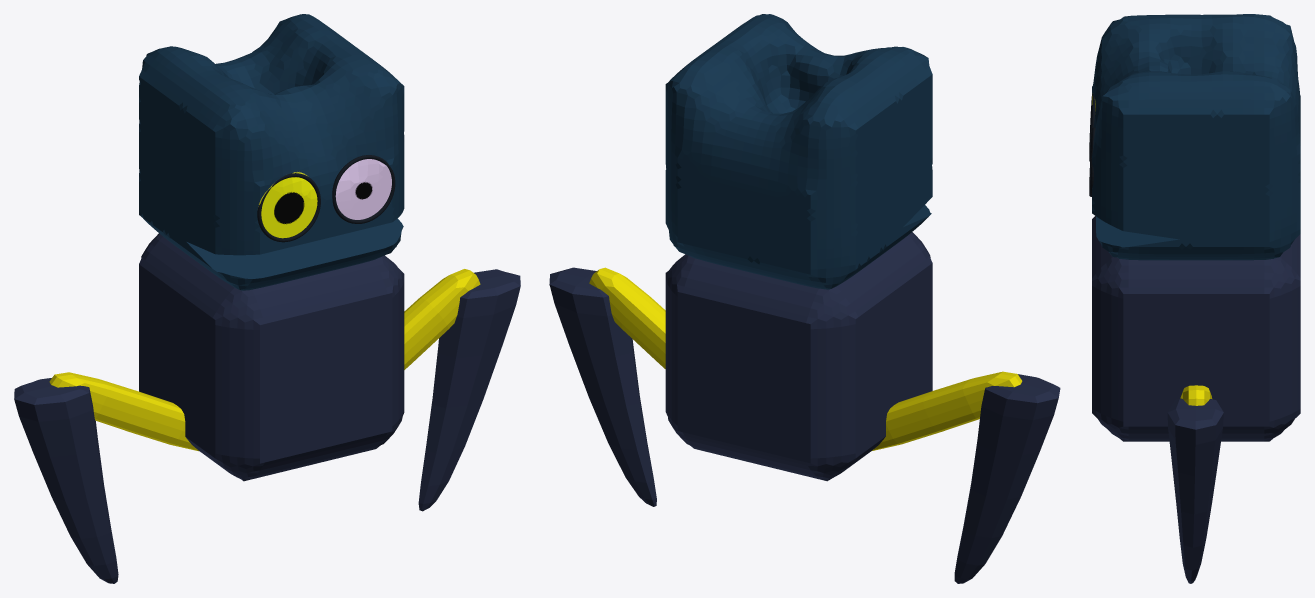
3 views of the same model, side by side, from view 1: azimuth 30°, elevation 25°; view 2: azimuth 150°, elevation 25°; view 3: azimuth 270°, elevation 25° (orthographic). The views are drawn at different scales.
Parts seen in each view (by area): view 1: Cube, Куб.004, Куб.003, Куб.002, Куб.001, Куб, Torus, Torus.001; view 2: Cube, Куб.004, Куб.002, Куб.003, Куб.001, Куб; view 3: Cube, Куб.004, Куб.002, Куб.
Boxes of the visible parts, x1,y1,x2,y2 form: Cube: (139, 14, 404, 290); Куб.004: (139, 233, 404, 481); Куб.003: (14, 378, 118, 583); Куб.002: (418, 269, 520, 511); Куб.001: (49, 372, 198, 451); Куб: (404, 269, 480, 369); Torus: (332, 155, 395, 223); Torus.001: (257, 173, 320, 242); Cube: (665, 14, 932, 289); Куб.004: (665, 232, 932, 481); Куб.002: (549, 267, 656, 506); Куб.003: (954, 374, 1060, 583); Куб.001: (871, 371, 1022, 451); Куб: (589, 267, 665, 368); Cube: (1092, 14, 1300, 260); Куб.004: (1092, 216, 1300, 441); Куб.002: (1167, 398, 1223, 583); Куб: (1180, 385, 1212, 405).
Size of the model in its own units: 535 by 496 by 203.
5 materials, 1 textured.
